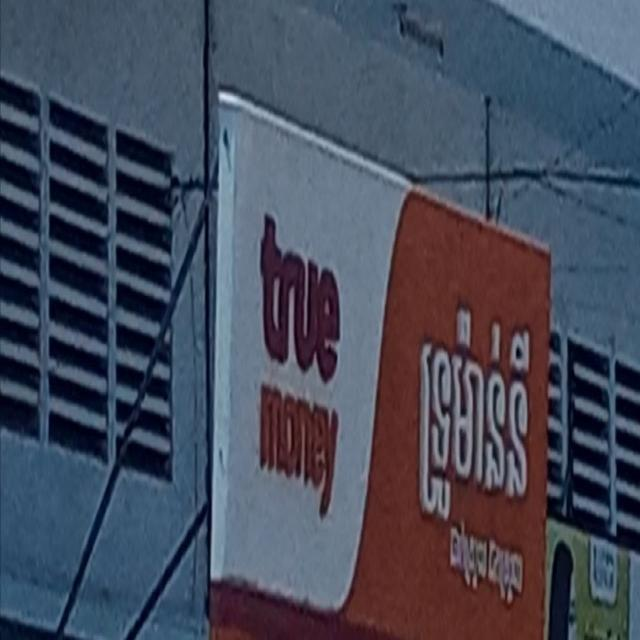Yolov11_80vkh: (416, 256, 546, 533)
